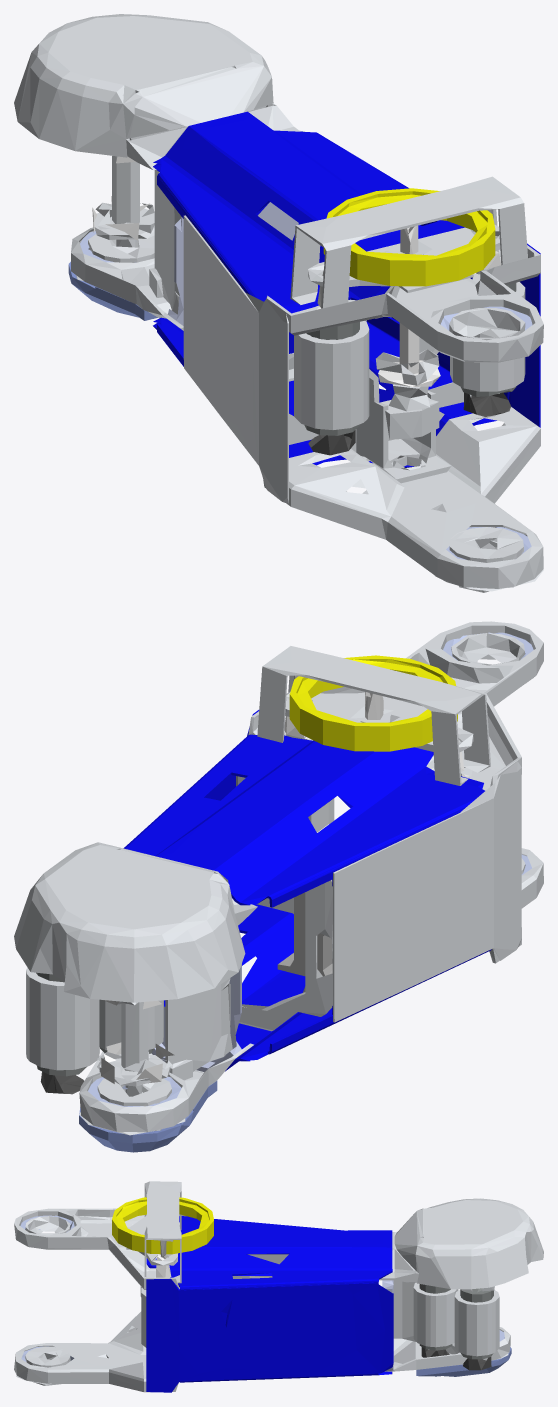
The model's file is LLEG_LINK2_mesh.dae.
The picture shows the model from 3 angles, top to bottom: view 1: azimuth 30°, elevation 25°; view 2: azimuth 150°, elevation 25°; view 3: azimuth 270°, elevation 25°; orthographic projection. The views are drawn at different scales.
Visible parts, largest first — view 1: LLEG_LINK2 (×19); view 2: LLEG_LINK2 (×17); view 3: LLEG_LINK2 (×16).
Boxes of the visible parts, <box> form: LLEG_LINK2 (×19): <box>14,14,543,591</box>; LLEG_LINK2 (×17): <box>14,621,543,1152</box>; LLEG_LINK2 (×16): <box>14,1181,543,1392</box>.
Size of the model in its own units: 0.1541 by 0.1745 by 0.4692.
